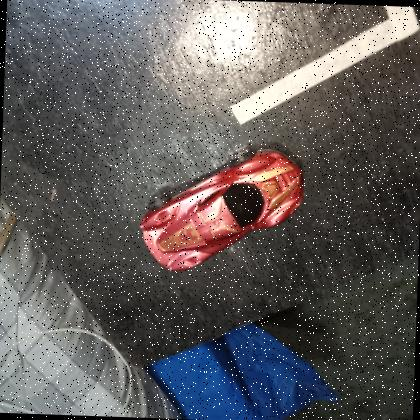Car: (138, 140, 307, 280)
